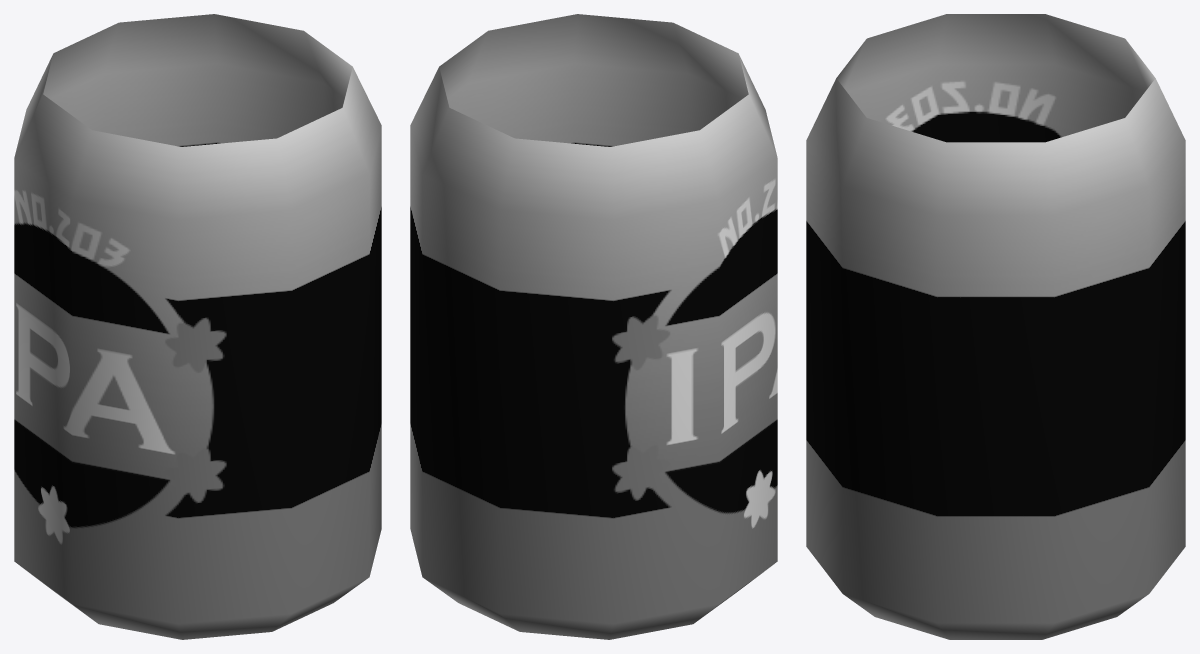
The model's file is Beer_Can_01.fbx.
3 views of the same model, side by side, from view 1: azimuth 30°, elevation 25°; view 2: azimuth 150°, elevation 25°; view 3: azimuth 270°, elevation 25° (orthographic).
Visible parts, largest first — view 1: Beer_Can_01; view 2: Beer_Can_01; view 3: Beer_Can_01.
Boxes of the visible parts, <box> form: Beer_Can_01: <box>14,14,381,639</box>; Beer_Can_01: <box>410,14,777,639</box>; Beer_Can_01: <box>806,14,1185,639</box>.
Size of the model in its own units: 34.1 by 52.33 by 35.85.
